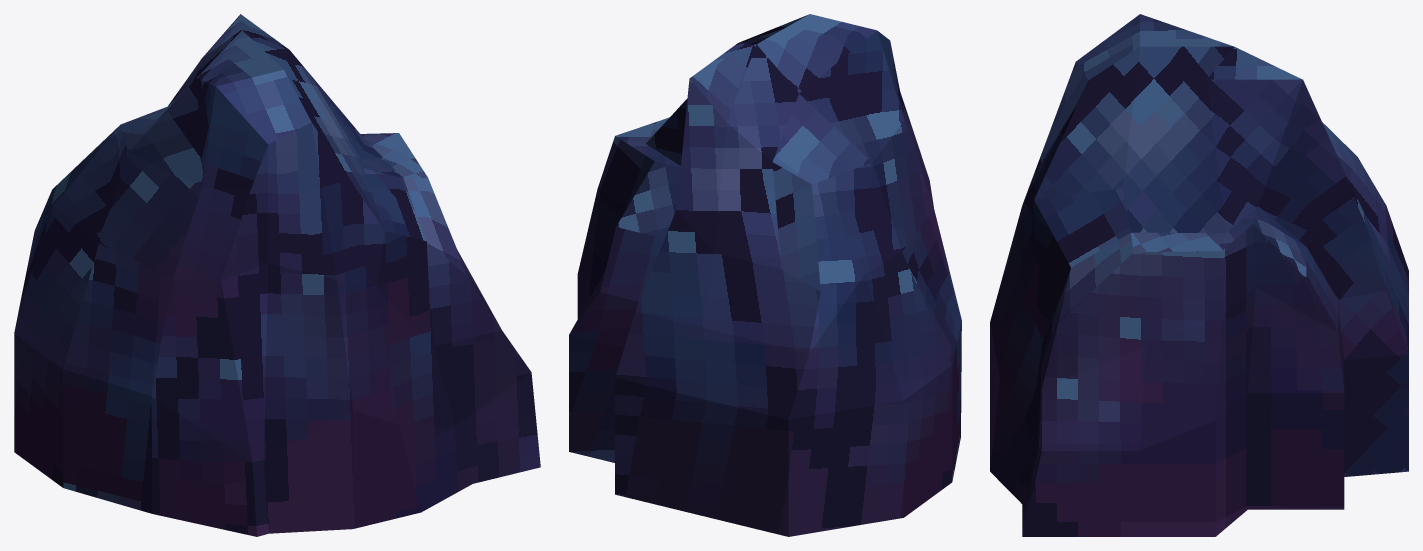
The model's file is rock_01.fbx.
The picture shows the model from 3 angles, left to right: view 1: azimuth 30°, elevation 25°; view 2: azimuth 150°, elevation 25°; view 3: azimuth 270°, elevation 25°; orthographic projection.
Parts seen in each view (by area): view 1: Rock_01; view 2: Rock_01; view 3: Rock_01.
Boxes of the visible parts, bbox=[...] form: Rock_01: bbox=[14, 14, 540, 536]; Rock_01: bbox=[569, 14, 961, 536]; Rock_01: bbox=[990, 14, 1408, 536].
Size of the model in its own units: 0.8383 by 0.8125 by 0.8534.
